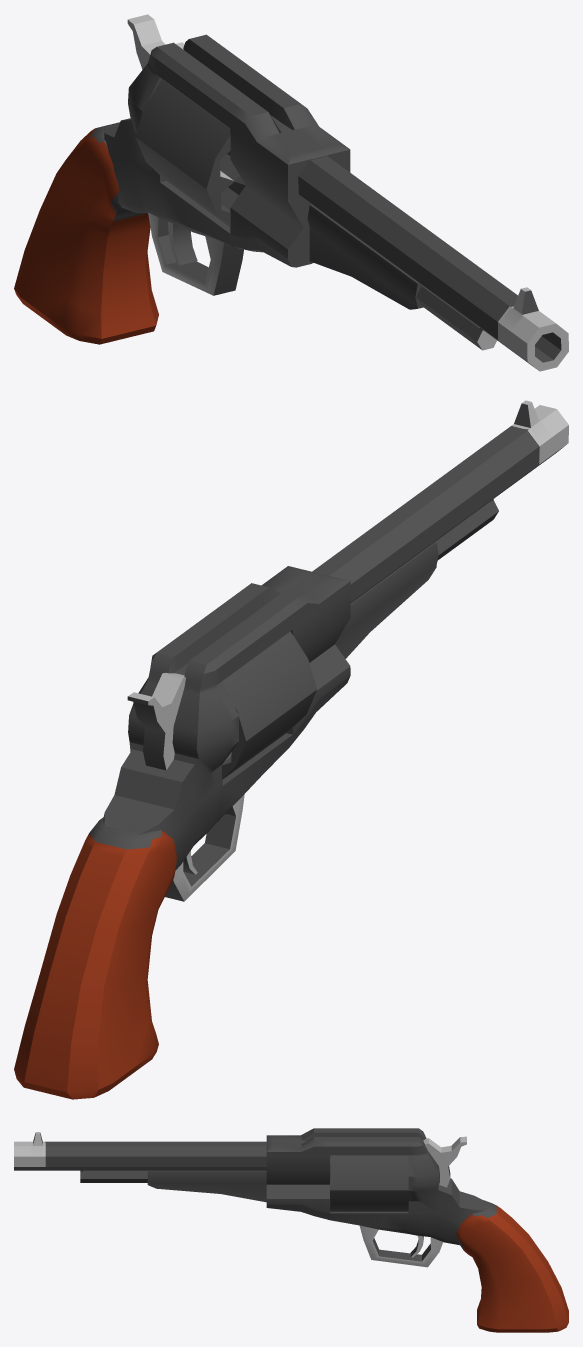
Rendered from Revolver.fbx.
3 views of the same model, one above another, from view 1: azimuth 30°, elevation 25°; view 2: azimuth 150°, elevation 25°; view 3: azimuth 270°, elevation 25° (orthographic). The views are drawn at different scales.
Parts seen in each view (by area): view 1: RevolverLowPoly; view 2: RevolverLowPoly; view 3: RevolverLowPoly.
Boxes of the visible parts, box(x1,y1,x2,y2) form: RevolverLowPoly: box(14, 14, 568, 371); RevolverLowPoly: box(14, 400, 568, 1099); RevolverLowPoly: box(14, 1128, 568, 1332).
Size of the model in its own units: 146 by 425 by 1135.
Materials: 1 (1 with a texture image).
